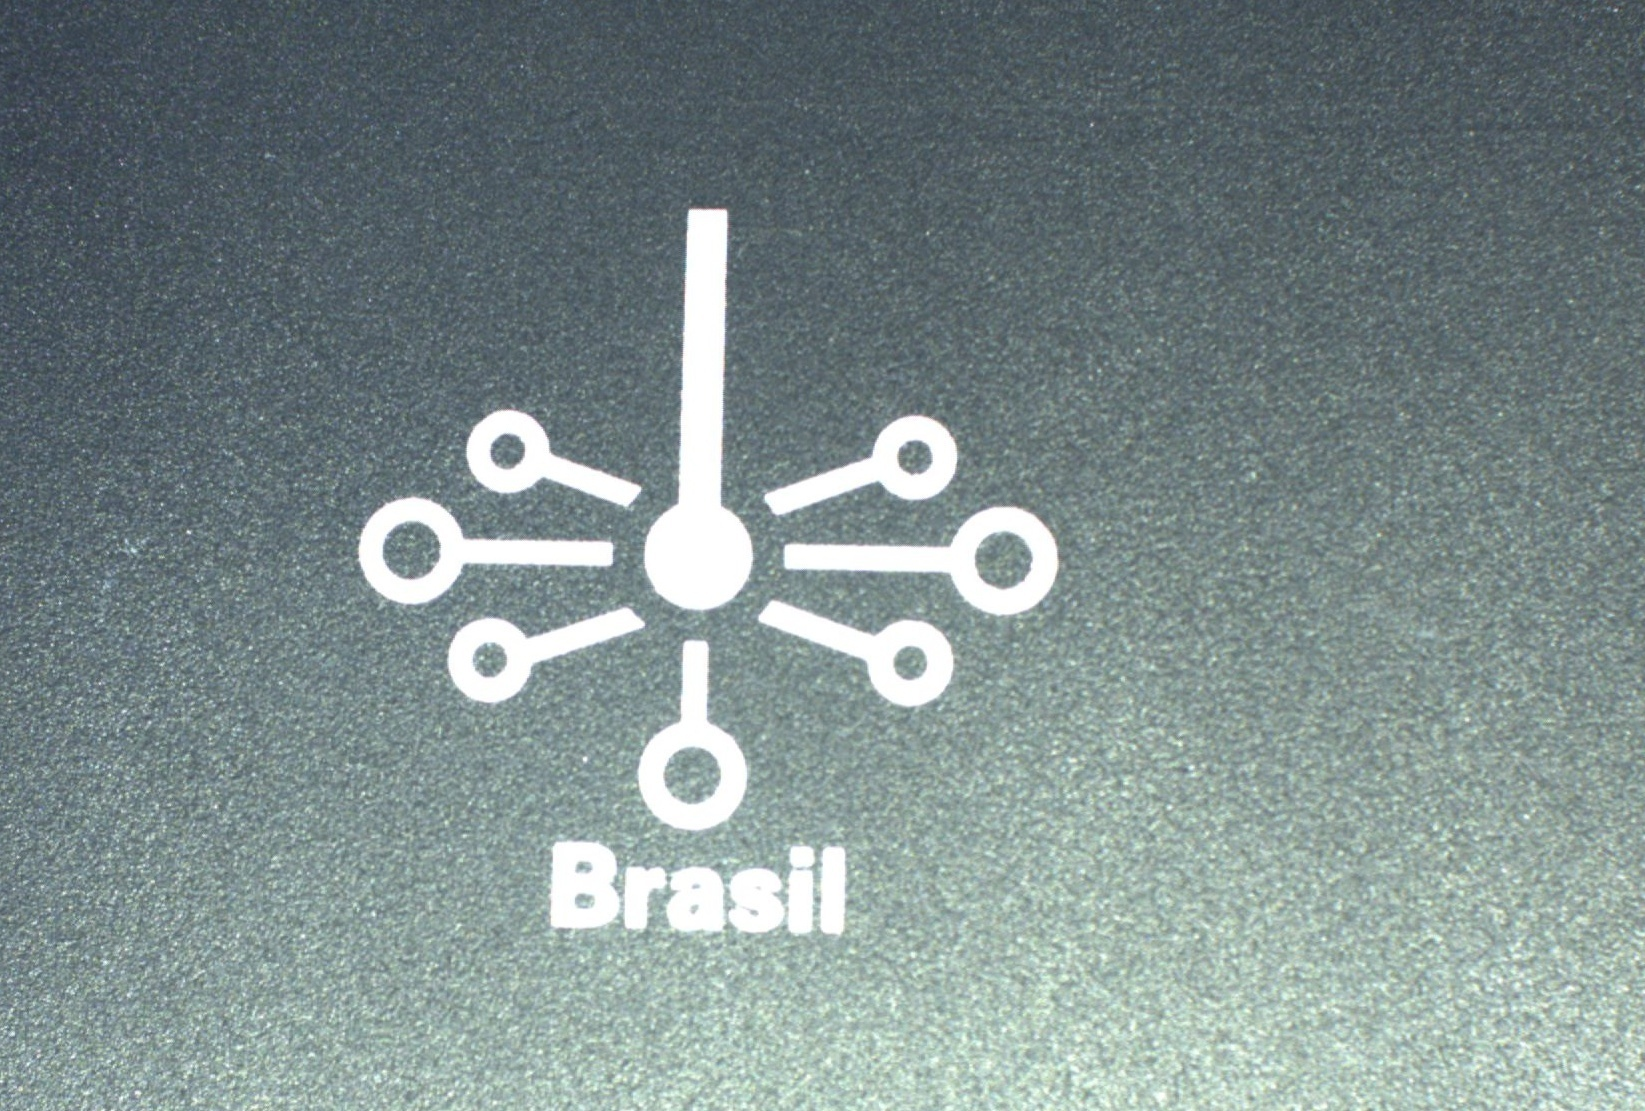BO_Brsail: (350, 195, 1066, 961)
